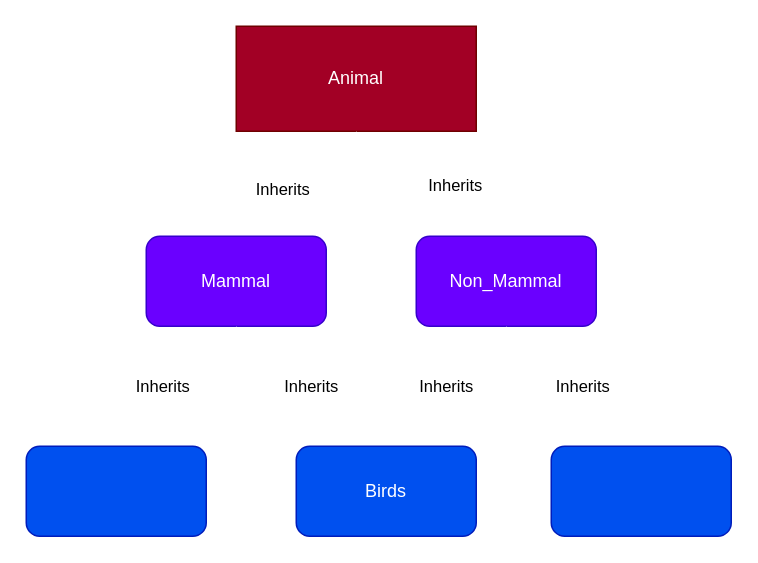
Some shapes in this 758 by 563 pixel diagram are drawn without their labels. Each missing label, with the centre of its shape:
"Apes" goes at [115,490].
"Fish" goes at [640,490].
